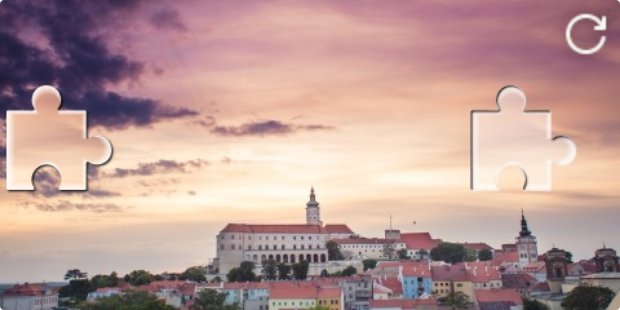target: (470, 84, 577, 191)
